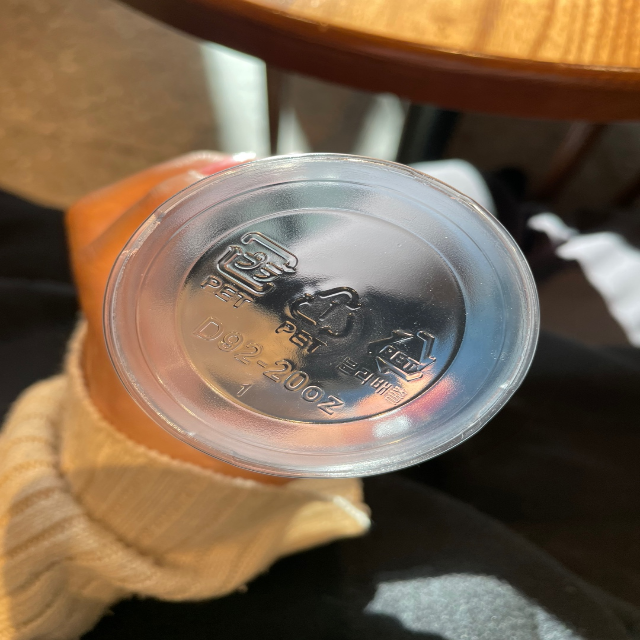pet: (336, 324, 441, 407), (202, 227, 300, 314), (274, 278, 363, 356)
